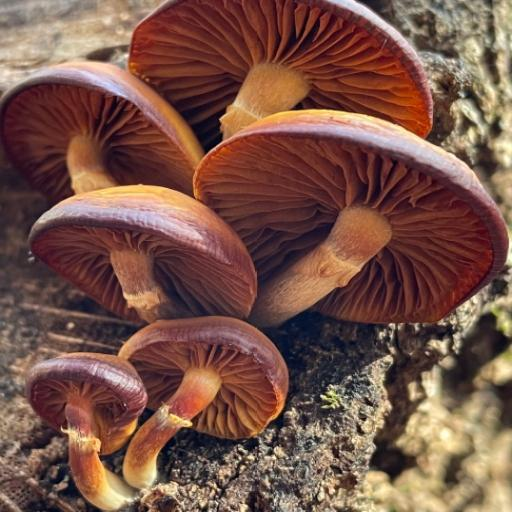mushroom: (3, 1, 507, 466)
